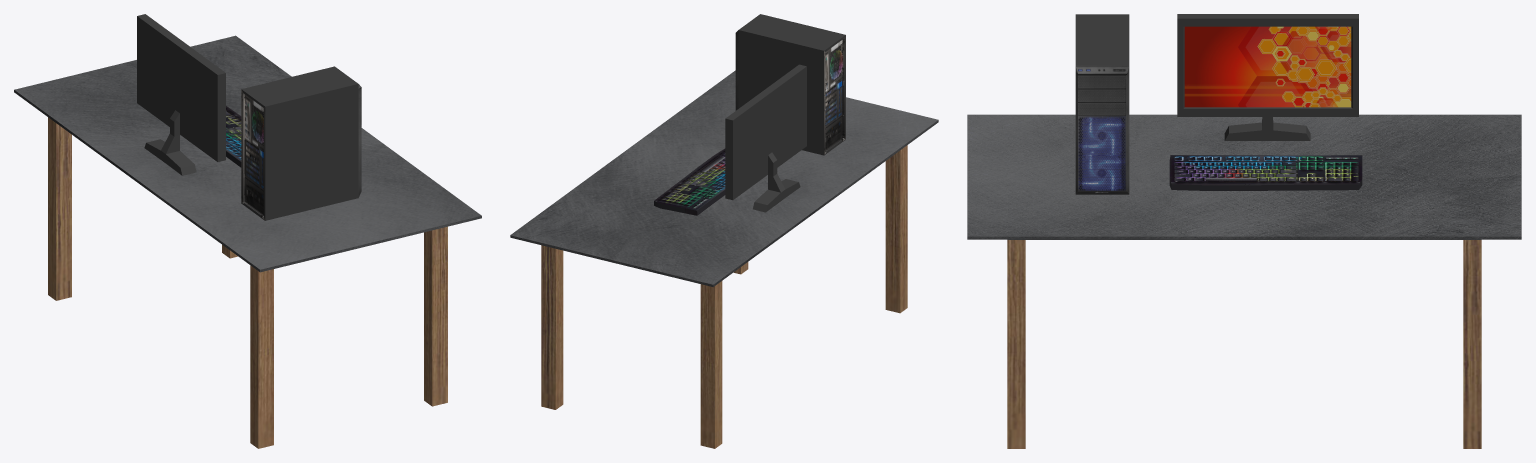
3 renders of one model, left to right at view 1: azimuth 30°, elevation 25°; view 2: azimuth 150°, elevation 25°; view 3: azimuth 270°, elevation 25°, orthographic. The views are drawn at different scales.
Visible parts, largest first — view 1: Table, Gab, Monitor, Keyboard; view 2: Table, Gab, Monitor, Keyboard; view 3: Table, Monitor, Gab, Keyboard.
Boxes of the visible parts, left/top/right/bottom form: Table: left=14, top=35, right=481, bottom=448; Gab: left=241, top=66, right=361, bottom=220; Monitor: left=137, top=14, right=225, bottom=175; Keyboard: left=226, top=106, right=241, bottom=167; Table: left=510, top=70, right=938, bottom=448; Gab: left=735, top=14, right=845, bottom=155; Monitor: left=725, top=64, right=806, bottom=212; Keyboard: left=654, top=148, right=725, bottom=215; Table: left=967, top=114, right=1521, bottom=448; Monitor: left=1177, top=14, right=1358, bottom=140; Gab: left=1075, top=14, right=1129, bottom=194; Keyboard: left=1169, top=155, right=1362, bottom=190.
Bounding box in the file's own units: 14.75 × 19.78 × 28.35.
